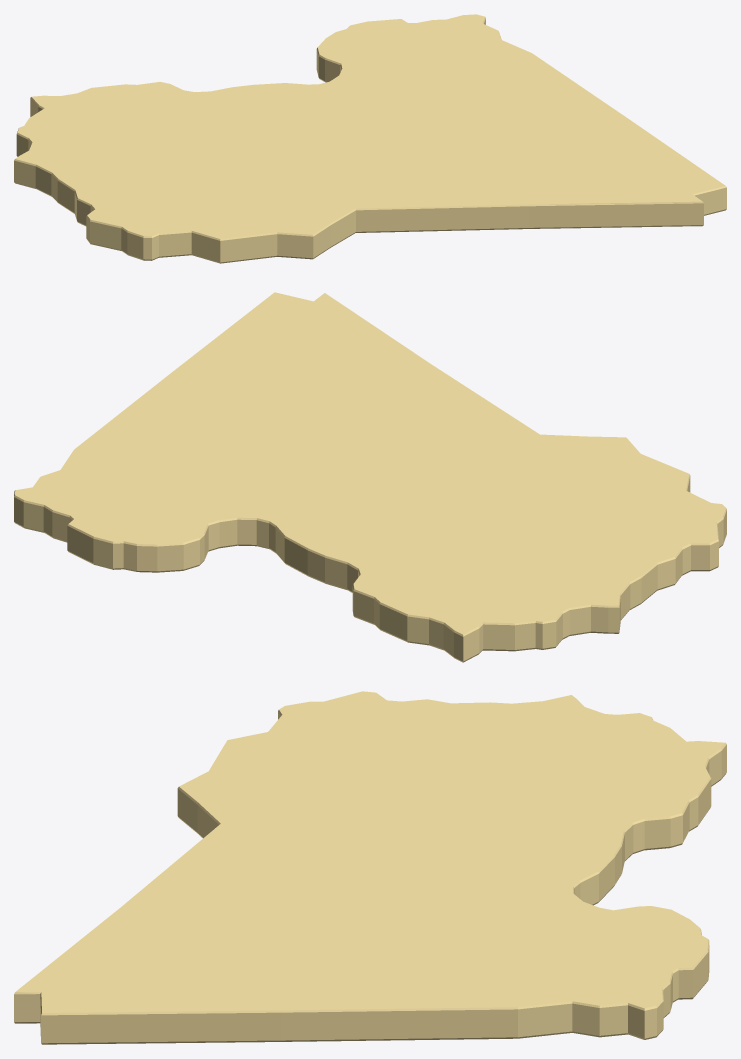
Rendered from LBY.glb.
3 views of the same model, one above another, from view 1: azimuth 30°, elevation 25°; view 2: azimuth 150°, elevation 25°; view 3: azimuth 270°, elevation 25° (orthographic). The views are drawn at different scales.
Bounding box in the file's own units: 1.49 × 0.068 × 1.39.
